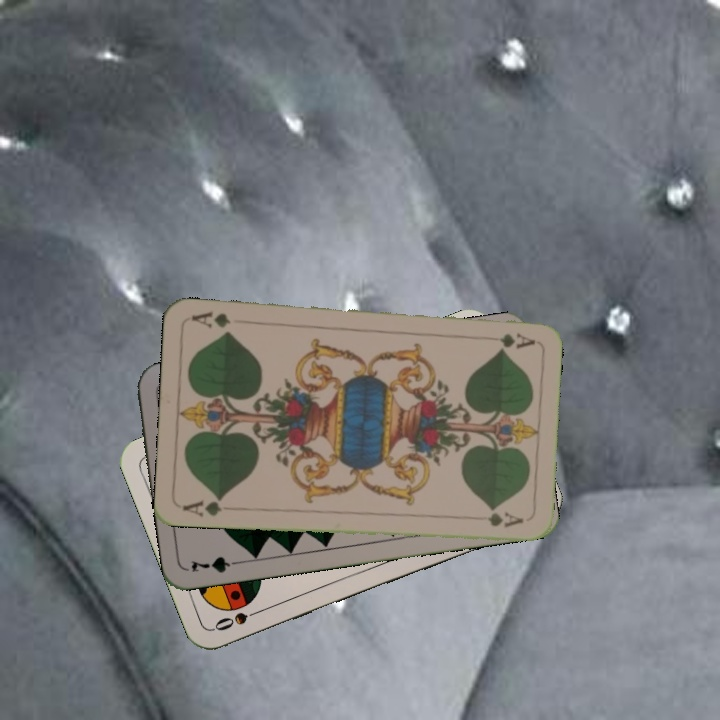G7: (187, 552, 246, 576)
GA: (178, 493, 226, 519), (477, 329, 537, 349)
SO: (210, 604, 267, 634)
